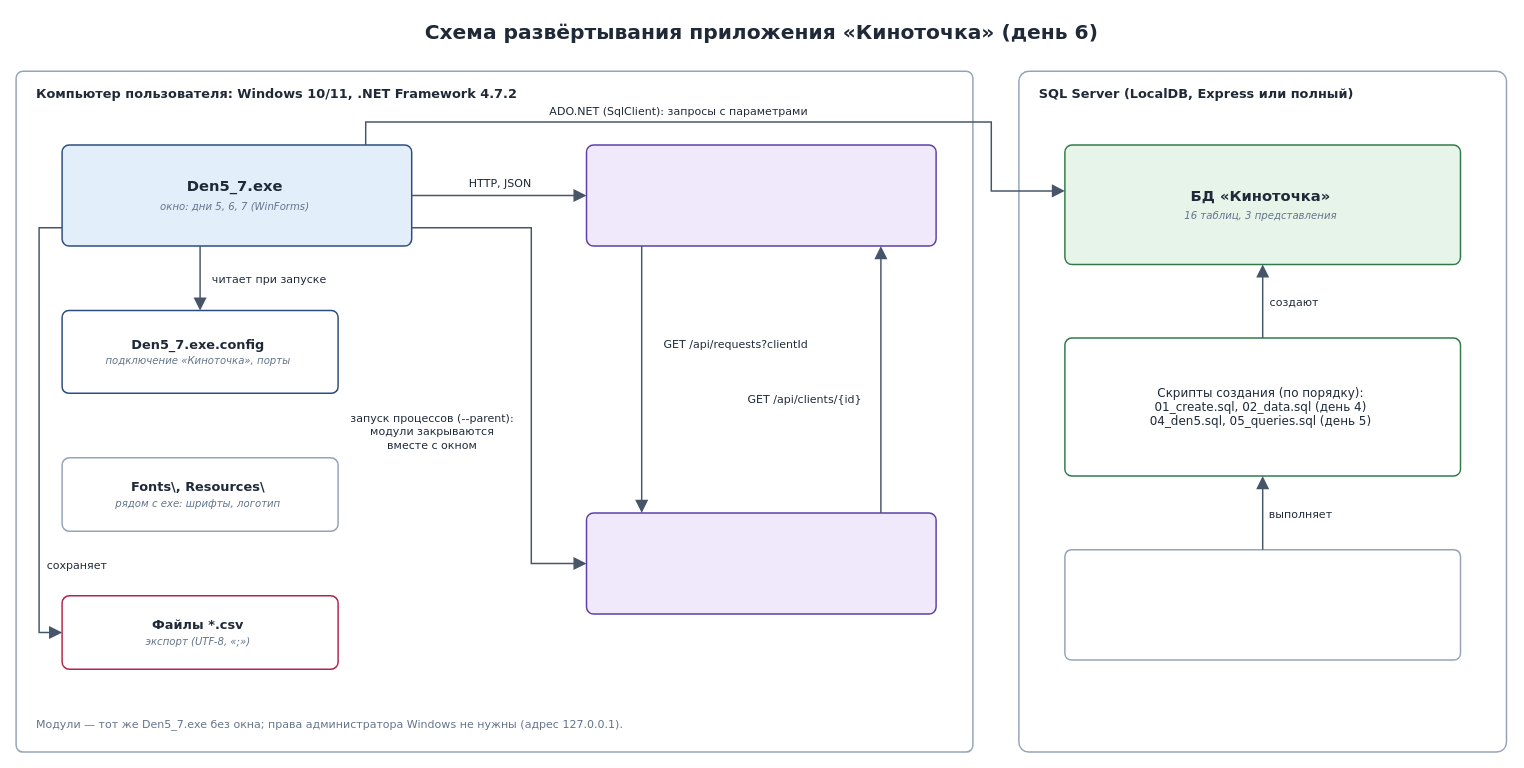
The diagram is 1524 pixels wide and 768 high, and some of its shapes have lost their labels. Here are the shapes that lost their labels. From the top down, the centre of each, then its label:
(x=760, y=195): Модуль «Клиенты» Den5_7.exe --module=clients, порт 5101
(x=760, y=563): Модуль «Заявки» Den5_7.exe --module=requests, порт 5102
(x=1262, y=604): sqlcmd -S "(localdb)\MSSQLLocalDB" -E -b -f 65001 -i <файл>
